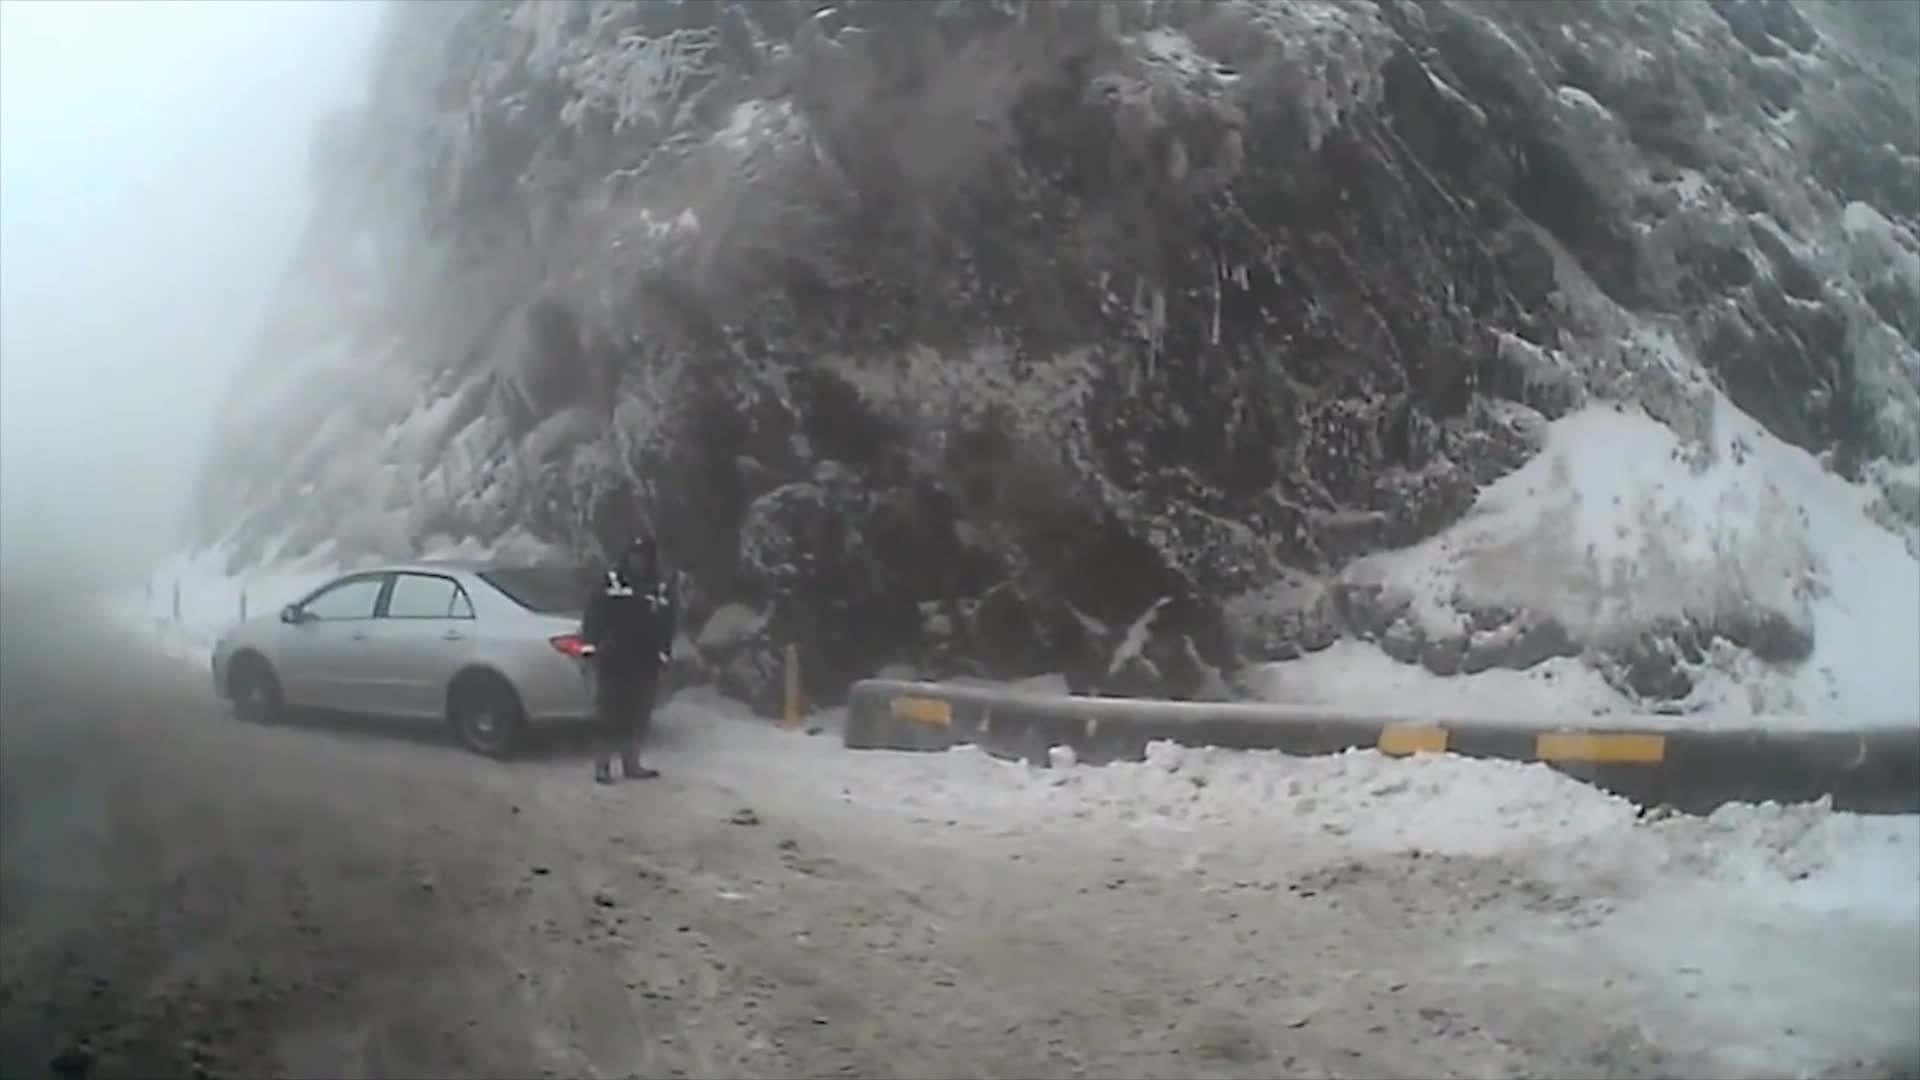pedestrian: (585, 532, 679, 784)
vehicle: (209, 554, 676, 759)
